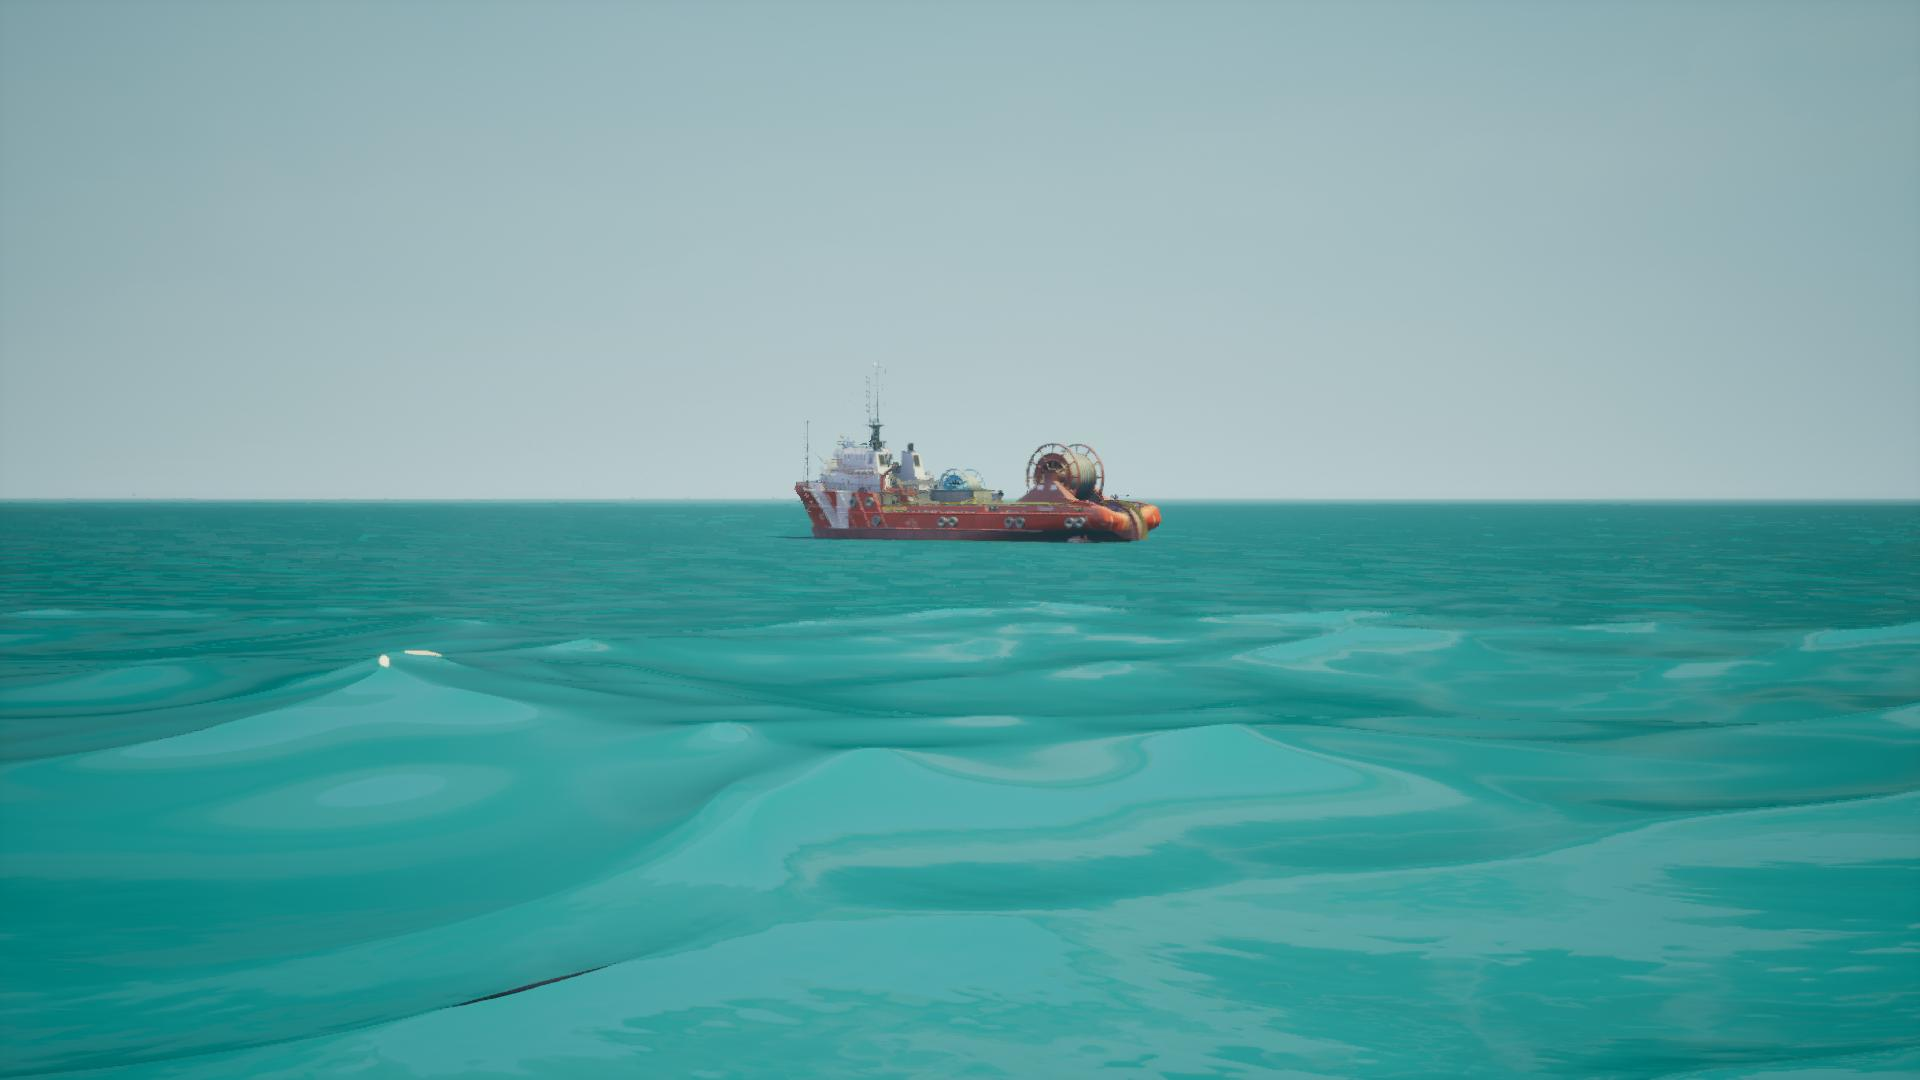Tug Boat: (786, 364, 1159, 546)
